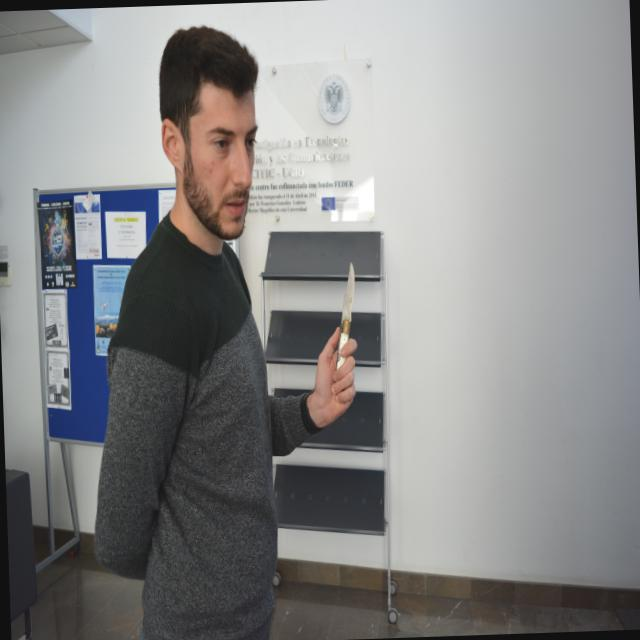knife: (328, 256, 362, 378)
